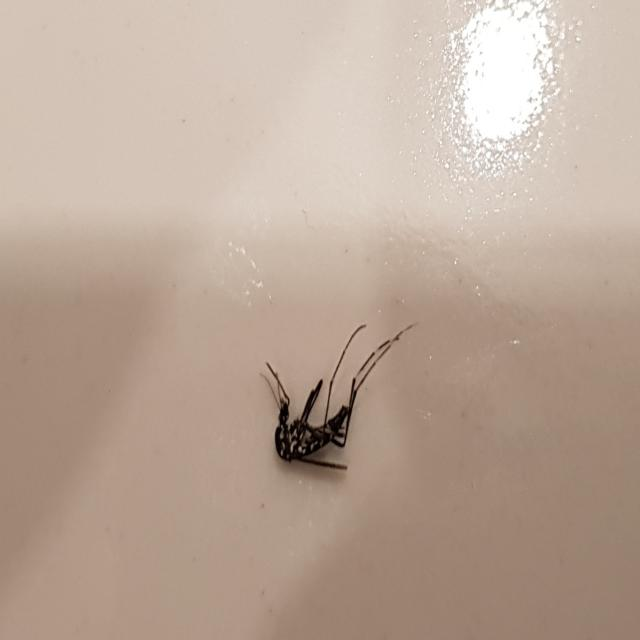albopictus: (262, 310, 418, 476)
